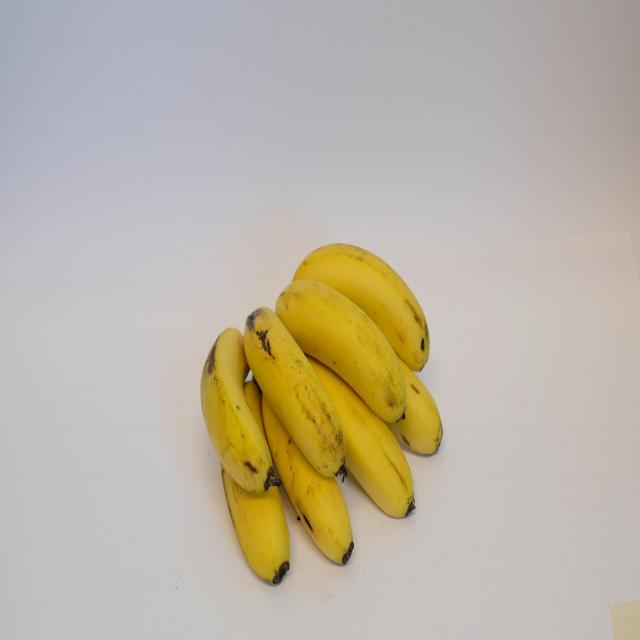banana: (241, 305, 354, 486), (294, 232, 436, 376), (275, 277, 410, 427), (304, 359, 420, 520), (260, 384, 360, 568), (218, 374, 294, 591), (199, 323, 275, 495)
